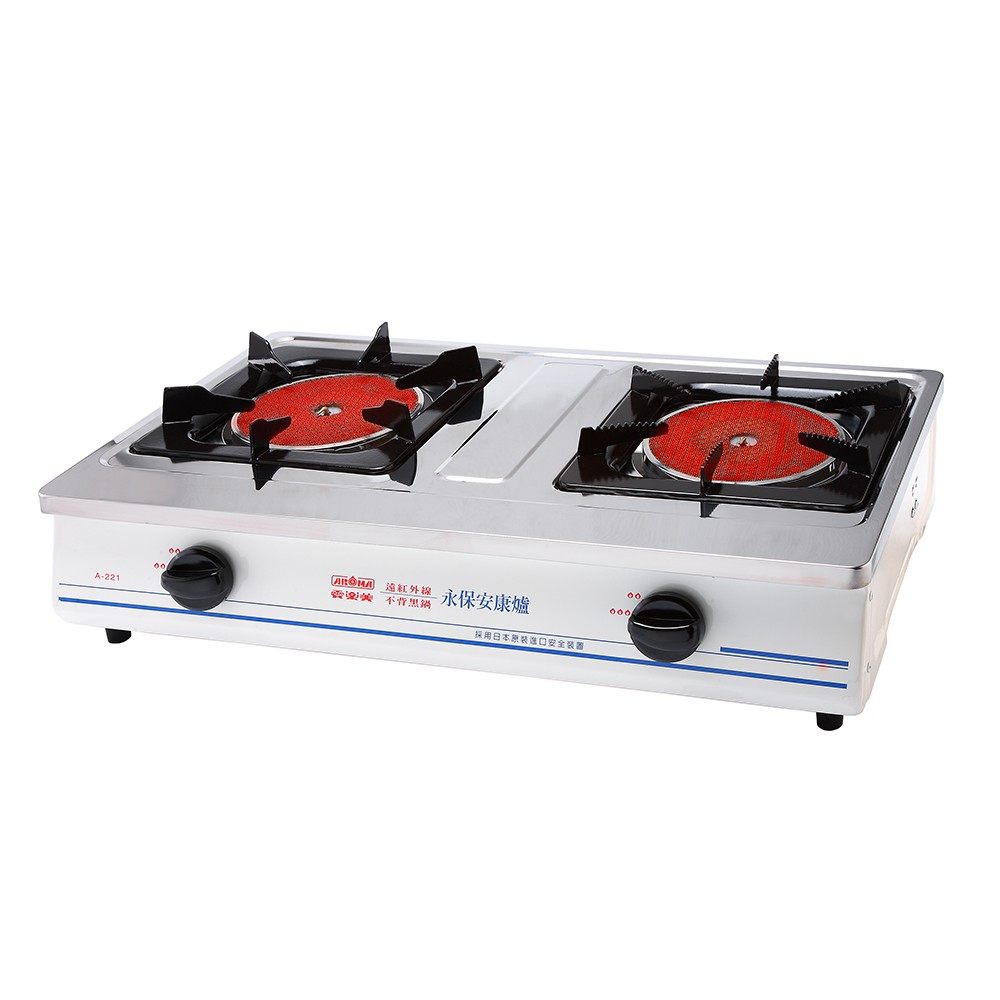gasoven: (35, 320, 956, 738)
